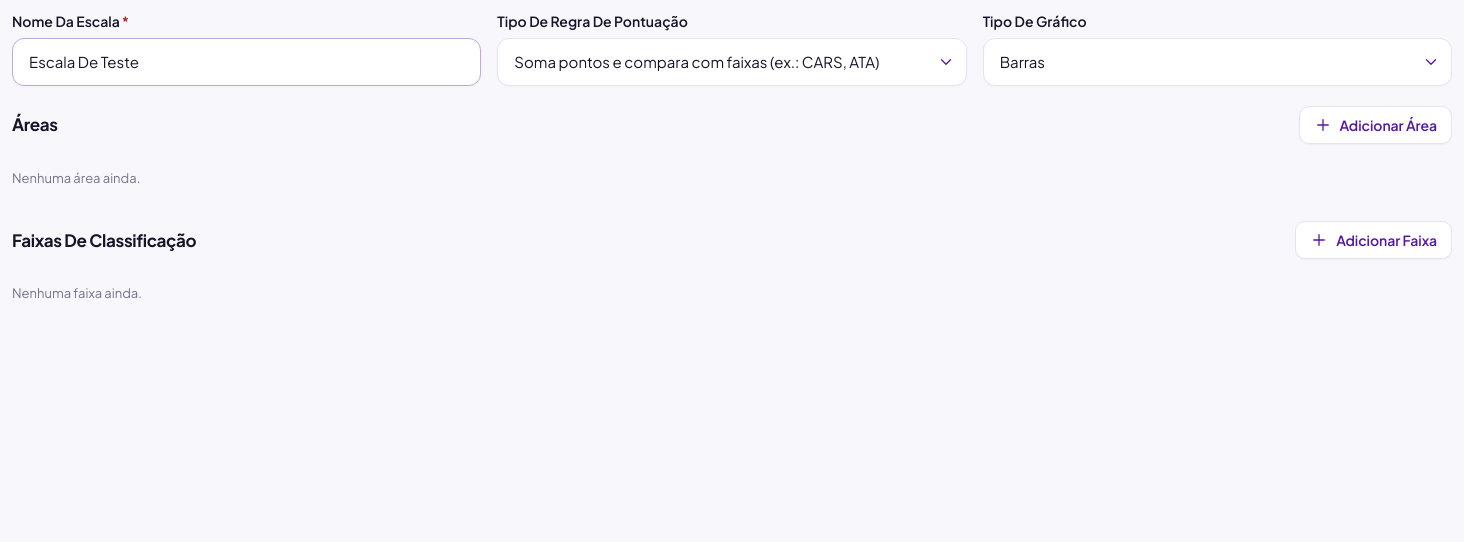
TemplateBuilder › adicionar um campo dentro de uma área faz o editor do campo aparecer
This screenshot has width=1464, height=542.
Step 1. Click the button "Adicionar Área" → (1375, 125), box [1298,106,1452,144]
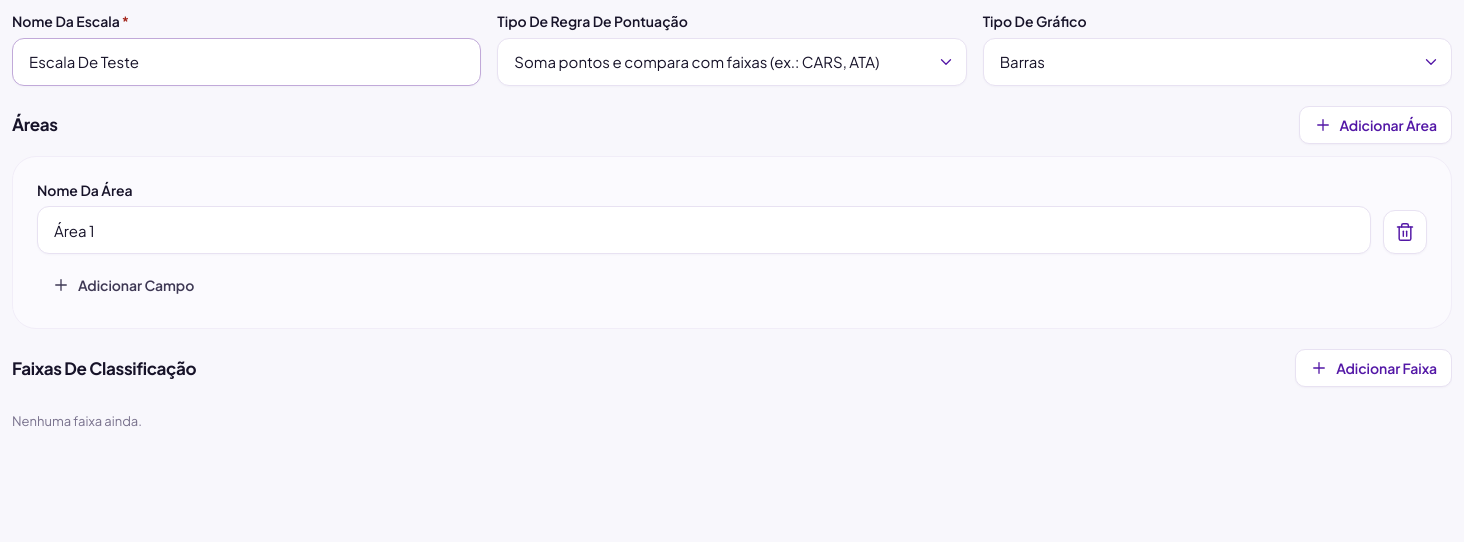
Step 2. Click the button "Adicionar Campo" → (123, 285), box [37,266,209,304]
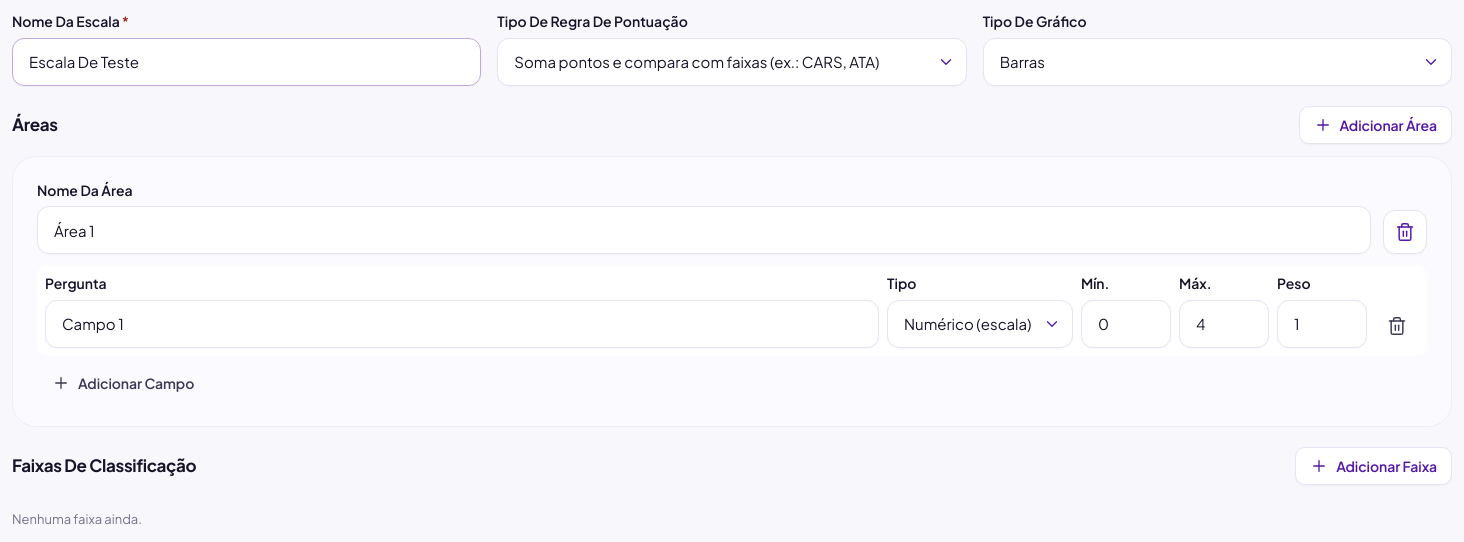
Expected: the field showing "Campo 1" is shown, [45,300,879,348]
